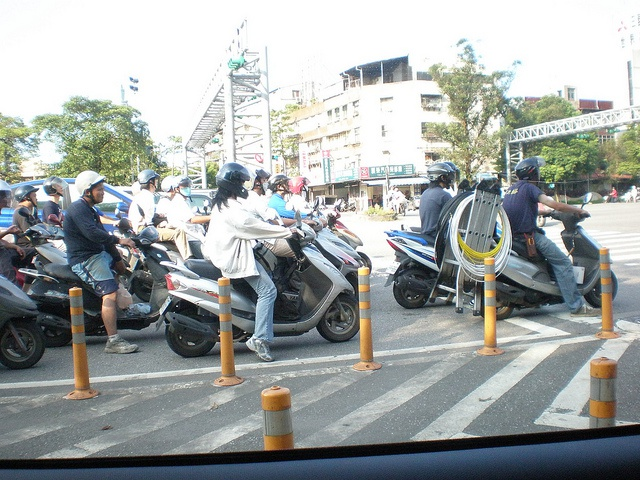non-vehicle: (155, 212, 359, 357), (20, 219, 170, 347), (489, 214, 618, 321), (294, 194, 361, 296), (1, 266, 47, 372), (383, 229, 440, 308), (327, 210, 372, 270), (319, 228, 373, 274)
